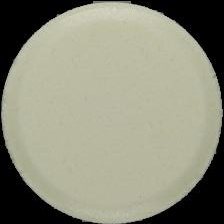68084-229: (0, 0, 224, 224)
